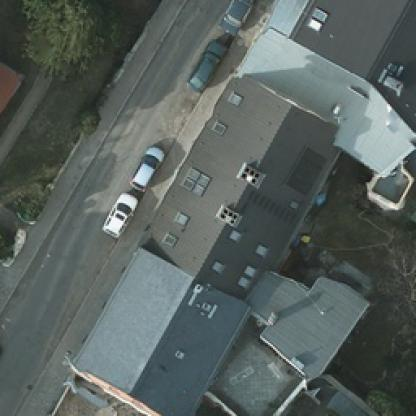car: (130, 132, 171, 192), (187, 40, 224, 92), (100, 190, 136, 234), (222, 0, 254, 25)
